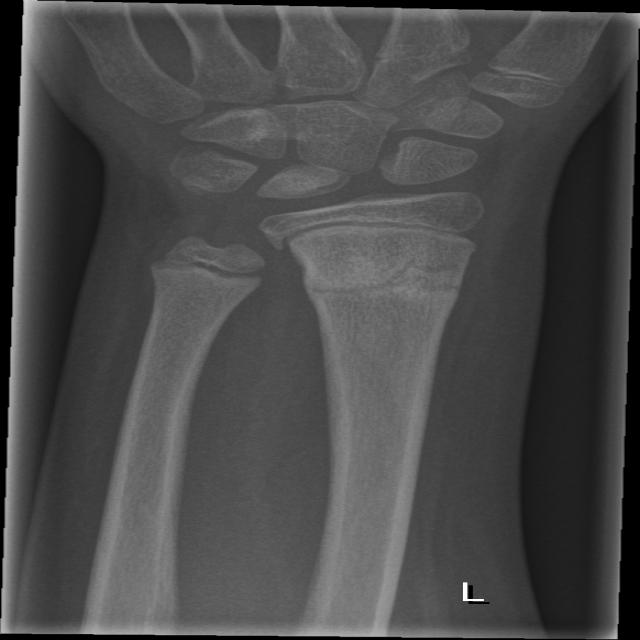radius fracture: (294, 218, 496, 438)
